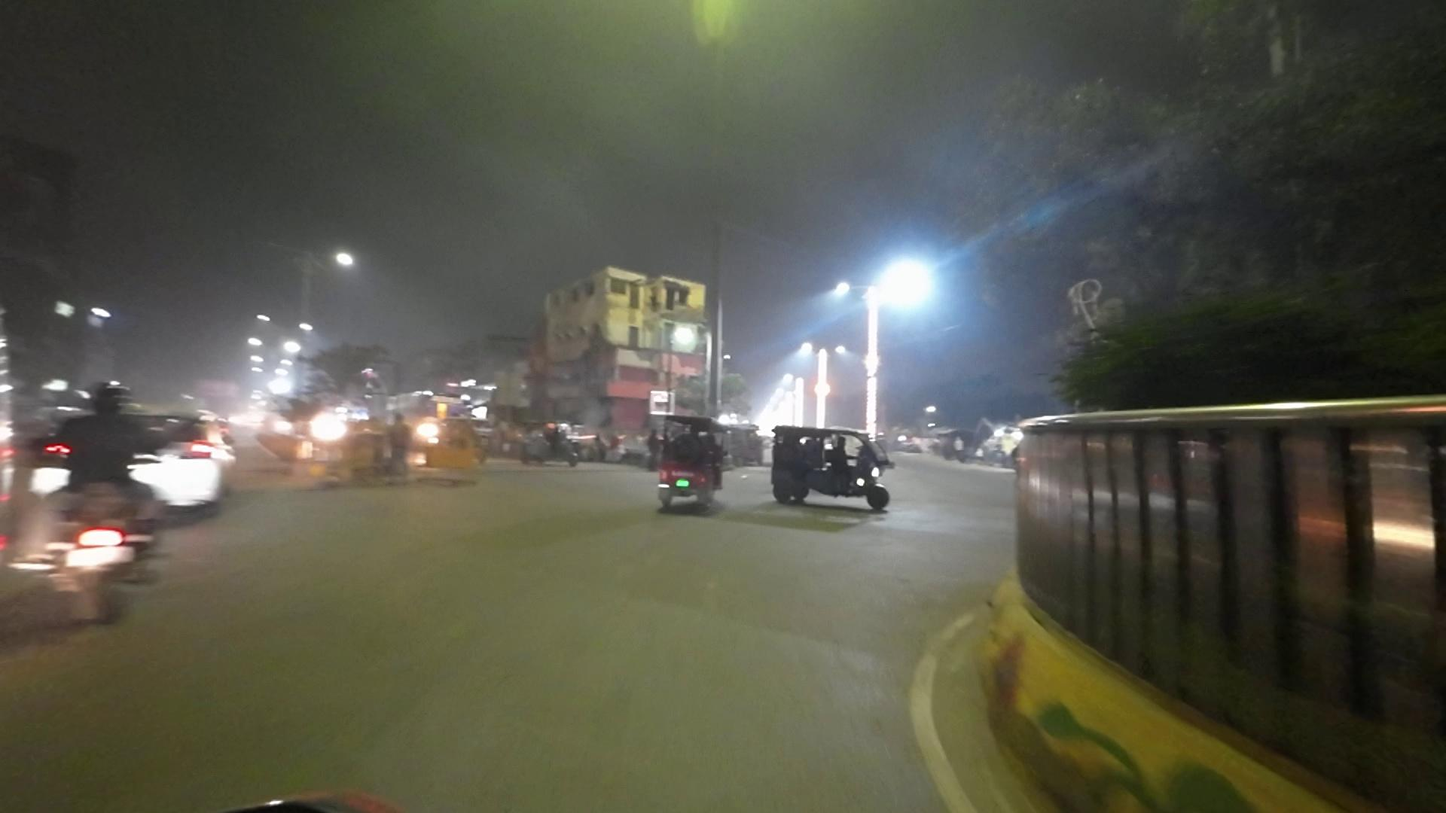streetlight: (264, 237, 307, 255)
